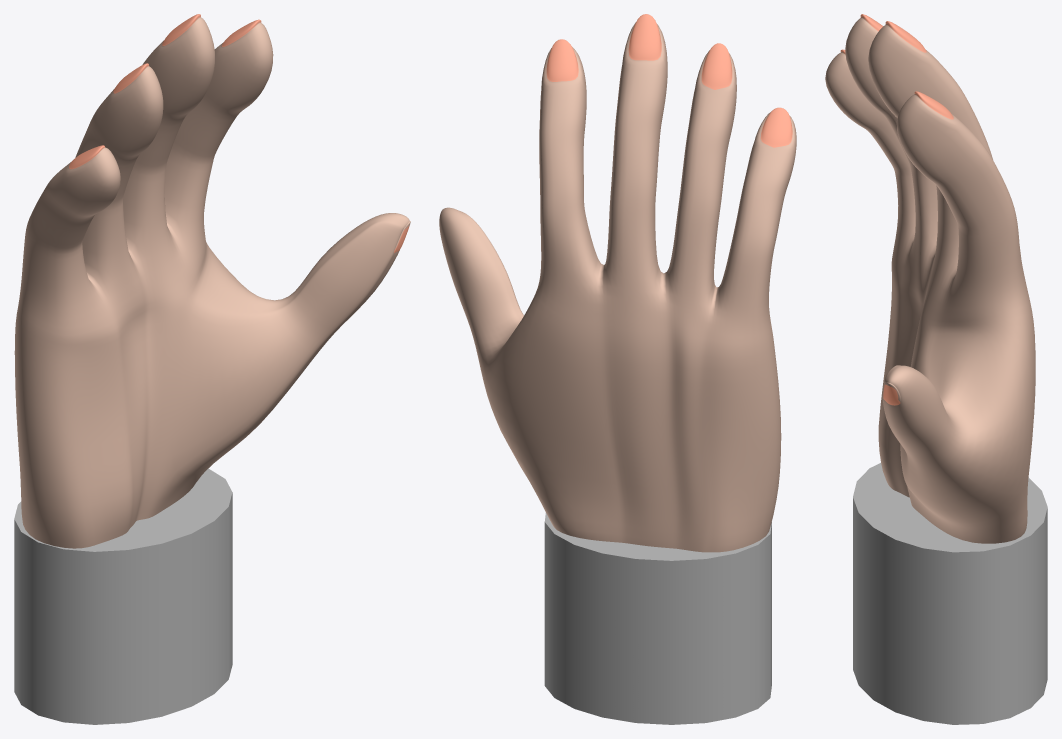
Rendered from RightHand.fbx.
3 renders of one model, left to right at view 1: azimuth 30°, elevation 25°; view 2: azimuth 150°, elevation 25°; view 3: azimuth 270°, elevation 25°, orthographic. The views are drawn at different scales.
Parts seen in each view (by area): view 1: RightHand:pCylinder2; view 2: RightHand:pCylinder2; view 3: RightHand:pCylinder2.
Part boxes in pixels (box(x1,y1,x2,y2)): RightHand:pCylinder2: box(14, 14, 410, 724); RightHand:pCylinder2: box(439, 14, 796, 724); RightHand:pCylinder2: box(825, 14, 1047, 724).
Bounding box in the file's own units: 1.47 × 2.56 × 0.7662.
